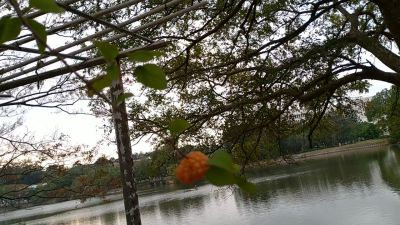eggs: (172, 150, 212, 185)
